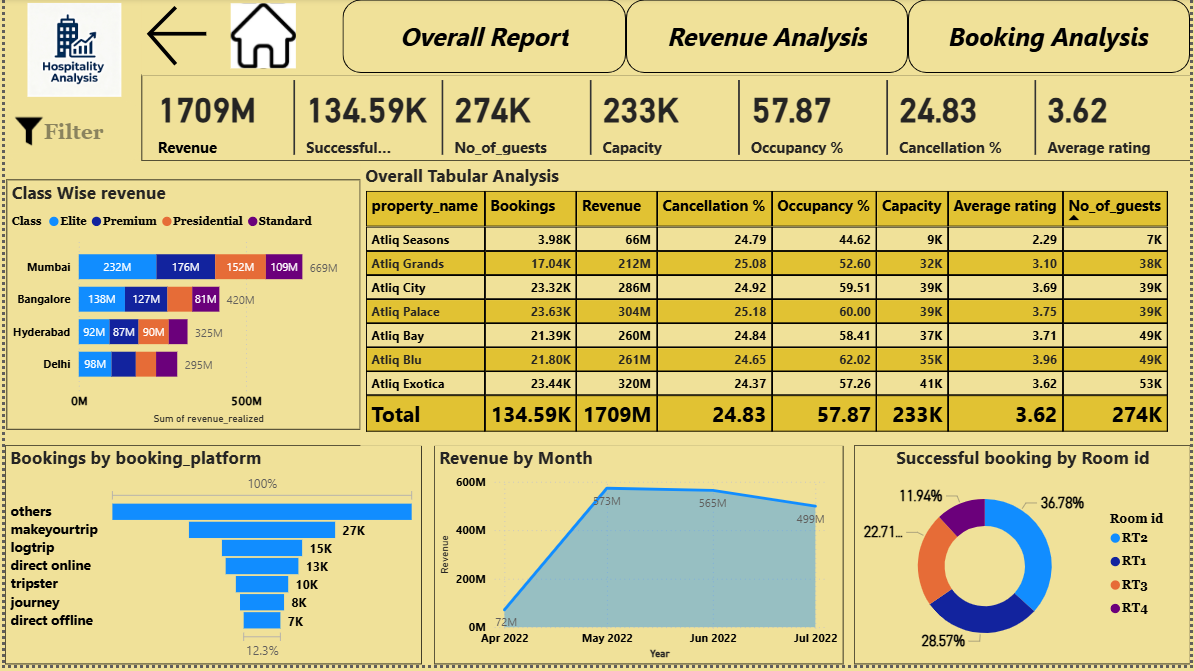

This screenshot's page, from the dashboard's own definition file:
{"tool":"powerbi","page":{"name":"Overall Report","canvas":[1280,720],"ordinal":1},"visuals":[{"type":"shape","box":[0,0,1279.4,123.1],"z":0,"group":"g4"},{"type":"group","id":"g1","title":"Base Card","box":[6.4,116,1269.7,100],"z":0,"group":"g3"},{"type":"shape","box":[852.2,116,213.3,100.2],"z":0,"group":"g1"},{"type":"card","fields":{"Values":["Metrics.Revenue"]},"box":[27.6,125.6,162.4,79.3],"z":0,"group":"g2"},{"type":"barChart","title":"Class Wise revenue","fields":{"Series":["dim_rooms.room_class"],"Category":["dim_hotels.city"],"Y":["Metrics.Revenue"]},"box":[20.7,222.5,424.4,227.3],"z":0},{"type":"shape","box":[308.3,19.1,240,66.8],"z":1000,"group":"g4"},{"type":"shape","box":[642.6,116,213.3,100.2],"z":1000,"group":"g1"},{"type":"group","id":"g2","title":"Cards","box":[27.6,125.6,1252.4,80.8],"z":1000,"group":"g3"},{"type":"card","fields":{"Values":["Metrics.Succesful Bookings"]},"box":[205.1,125.6,239.8,79.3],"z":1000,"group":"g2"},{"type":"funnel","fields":{"Category":["fact_bookings.booking_platform"],"Y":["Metrics.Total Bookings"]},"box":[20.7,460.9,422.8,243.2],"z":1000},{"type":"actionButton","box":[309.9,19.1,238.4,66.8],"z":2000,"group":"g4"},{"type":"shape","box":[431.2,116,213.3,100.2],"z":2000,"group":"g1"},{"type":"card","fields":{"Values":["Metrics.Capacity"]},"box":[412.7,125.6,239.8,79.3],"z":2000,"group":"g2"},{"type":"areaChart","title":"Revenue by Month","fields":{"Y":["Metrics.Revenue"],"Category":["fact_bookings.booking_date.Variation.Date Hierarchy.Year","fact_bookings.booking_date.Variation.Date Hierarchy.Quarter","fact_bookings.booking_date.Variation.Date Hierarchy.Month","fact_bookings.booking_date.Variation.Date Hierarchy.Day"]},"box":[885.3,460.9,370.3,243.2],"z":2000},{"type":"shape","box":[550.2,19.2,238.6,67.3],"z":3000,"group":"g4"},{"type":"shape","box":[217.8,116,213.3,100.2],"z":3000,"group":"g1"},{"type":"card","fields":{"Values":["Metrics.Occupancy %"]},"box":[624.2,125.6,239.8,79.3],"z":3000,"group":"g2"},{"type":"ribbonChart","title":"Successful Booking by wn and room_category","fields":{"Category":["dim_date.wn"],"Y":["Metrics.Succesful Bookings"],"Series":["dim_rooms.room_id"]},"box":[457.7,460.9,411.7,243.2],"z":3000},{"type":"actionButton","box":[550.2,19.2,238.6,67.3],"z":4000,"group":"g4"},{"type":"shape","box":[6.4,116,213.3,100.2],"z":4000,"group":"g1"},{"type":"card","fields":{"Values":["Metrics.Cancellation %"]},"box":[833.7,125.6,239.8,79.3],"z":4000,"group":"g2"},{"type":"tableEx","title":"Overall Tabular Analysis","fields":{"Values":["dim_hotels.property_name","Metrics.Revenue","Metrics.Total Bookings","Metrics.Total Capacity","Metrics.Occupancy %","Metrics.Cancellation %","Metrics.Average Rating","Sum(fact_bookings.no_guests)"]},"box":[456.2,222.5,797.9,227.3],"z":4000},{"type":"group","id":"g3","title":"Cards","box":[6.4,116,1273.1,100.1],"z":5000},{"type":"shape","box":[1063.6,116,213.3,100.2],"z":5000,"group":"g1"},{"type":"card","fields":{"Values":["Metrics.Average Rating"]},"box":[1041.4,125.6,239.8,79.3],"z":5000,"group":"g2"},{"type":"shape","box":[790.7,19.2,238.6,67.3],"z":6000,"group":"g4"},{"type":"group","id":"g4","title":"Header","box":[0,0,1279.5,122.4],"z":7000},{"type":"actionButton","box":[790.7,19.2,238.6,67.3],"z":7000,"group":"g4"},{"type":"shape","box":[1031.2,19.2,238.6,67.3],"z":8000,"group":"g4"},{"type":"actionButton","box":[1031.2,19.2,238.6,67.3],"z":9000,"group":"g4"},{"type":"textbox","box":[15.9,15.9,292.5,93.8],"z":9250,"group":"g4"},{"type":"actionButton","box":[11.1,62,42.9,47.7],"z":9500,"group":"g4"}]}

Visuals, with their boxes in screenshot pixels (x1, y1, x2, y2), scaled from the page's 1280x720 canvas onto the 1194x671 screenshot:
shape: 0,0,1193,115
"Base Card" group: 6,108,1190,201
shape: 795,108,994,201
card - Metrics.Revenue: 26,117,177,191
"Class Wise revenue" barChart: 19,207,415,419
shape: 288,18,511,80
shape: 599,108,798,201
"Cards" group: 26,117,1193,192
card - Metrics.Succesful Bookings: 191,117,415,191
funnel - fact_bookings.booking_platform x Metrics.Total Bookings: 19,430,414,656
actionButton: 289,18,511,80
shape: 402,108,601,201
card - Metrics.Capacity: 385,117,609,191
"Revenue by Month" areaChart: 826,430,1171,656
shape: 513,18,736,81
shape: 203,108,402,201
card - Metrics.Occupancy %: 582,117,806,191
"Successful Booking by wn and room_category" ribbonChart: 427,430,811,656
actionButton: 513,18,736,81
shape: 6,108,205,201
card - Metrics.Cancellation %: 778,117,1001,191
"Overall Tabular Analysis" tableEx: 426,207,1170,419
"Cards" group: 6,108,1193,201
shape: 992,108,1191,201
card - Metrics.Average Rating: 971,117,1193,191
shape: 738,18,960,81
"Header" group: 0,0,1193,114
actionButton: 738,18,960,81
shape: 962,18,1184,81
actionButton: 962,18,1184,81
textbox: 15,15,288,102
actionButton: 10,58,50,102
